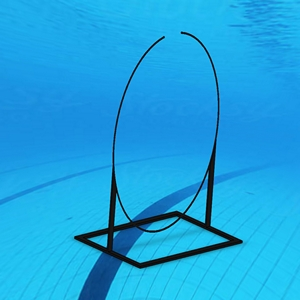circle: (73, 30, 244, 271)
